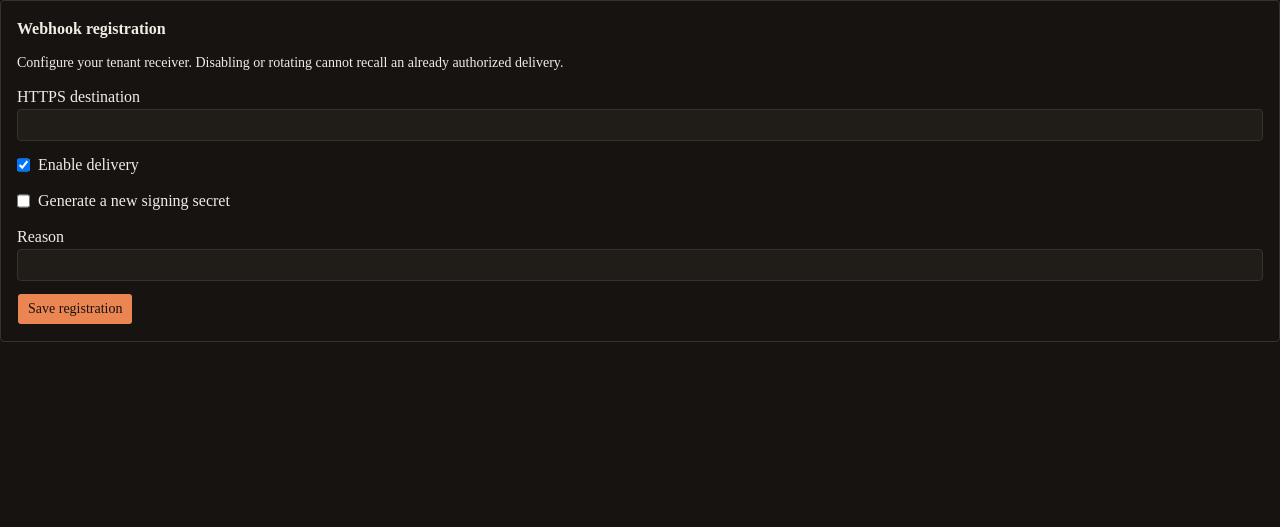
Test: operator editing uses tenant-scoped proxy commands and clears secrets when target changes
Expected: the button "Save registration" is enabled, [17,293,134,325]
Type "https://receiver.example/hook" into the field labelled "HTTPS destination".
click(640, 125); type("https://receiver.example/hook")  # box [17,109,1263,141]
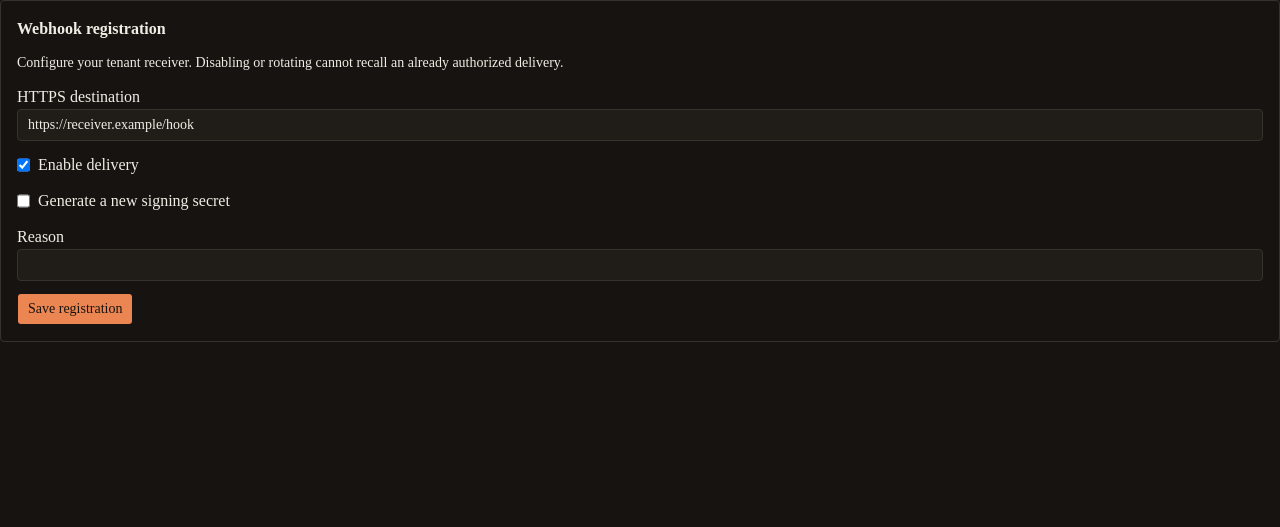
Type "Configure tenant event receiver." into the field named "Registration change reason".
click(640, 265); type("Configure tenant event receiver.")  # box [17,249,1263,281]
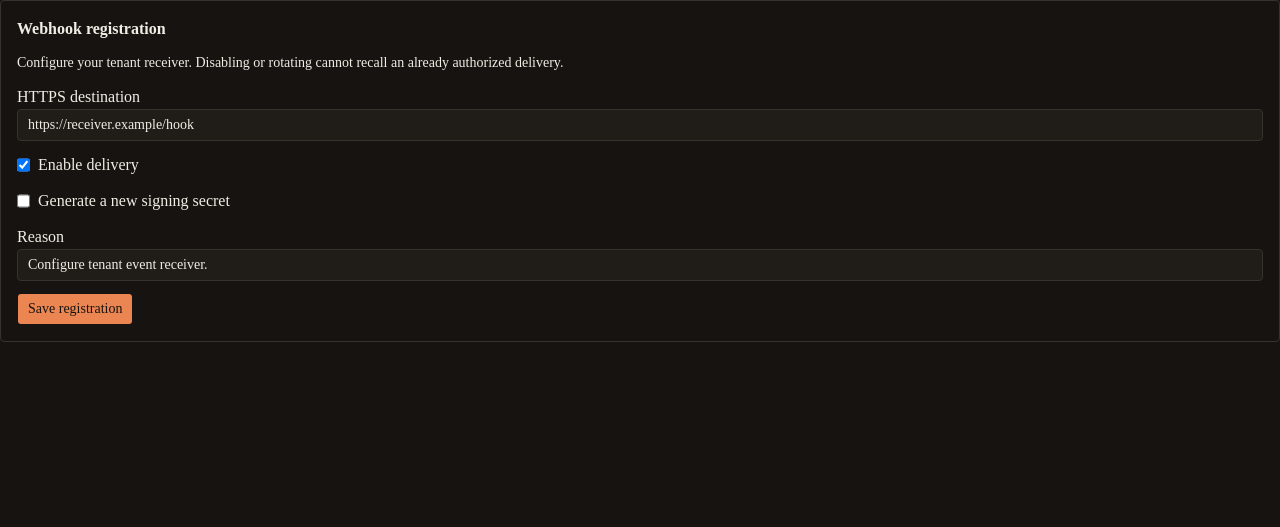
Click the button "Save registration".
click(75, 309)  # box [17,293,134,325]
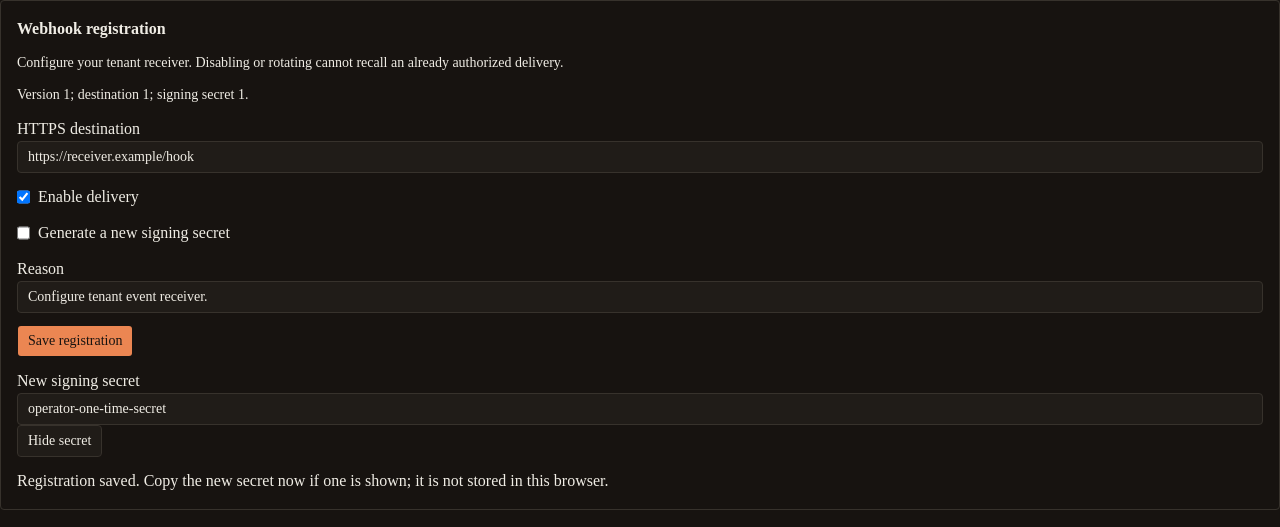
Now the field labelled "New signing secret" holds "operator-one-time-secret", box [17,393,1263,425]
